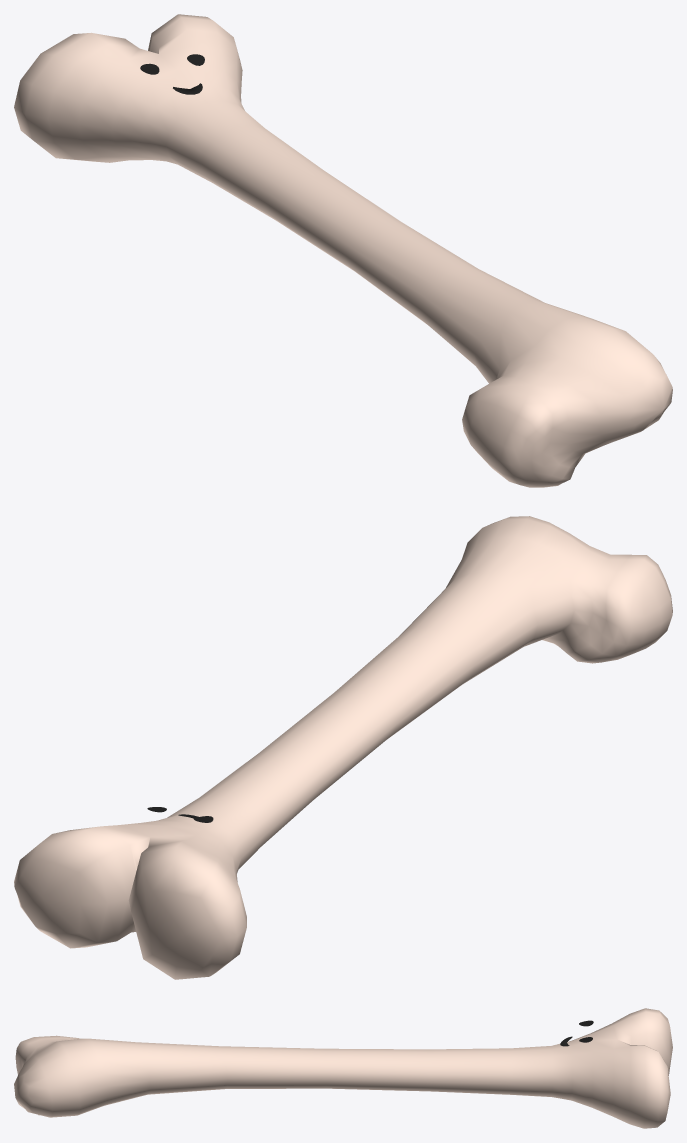
File: props.fbx_item_bone.fbx
3 renders of one model, top to bottom at view 1: azimuth 30°, elevation 25°; view 2: azimuth 150°, elevation 25°; view 3: azimuth 270°, elevation 25°, orthographic. The views are drawn at different scales.
Visible parts, largest first — view 1: item_bone; view 2: item_bone; view 3: item_bone.
Part boxes in pixels (x1,y1,x2,y2): item_bone: (14,14,672,487); item_bone: (14,516,672,979); item_bone: (14,1008,672,1128).
Size of the model in its own units: 66.79 by 39.29 by 254.
